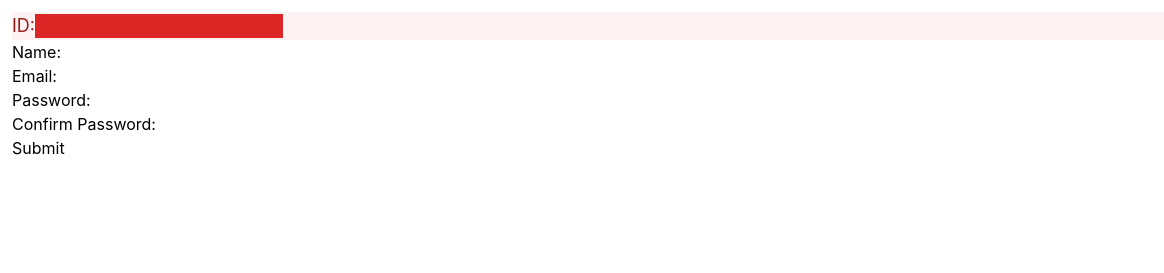
Test: SignupForm › validates password field
Step 1. Type "short" into the password field labelled "Password:" → (215, 100), box [91, 88, 339, 112]
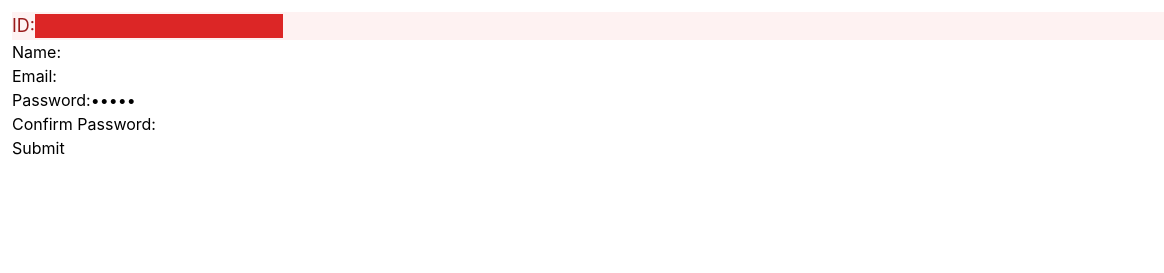
Step 2. Click the button "Submit" → (38, 148), box [12, 136, 65, 160]
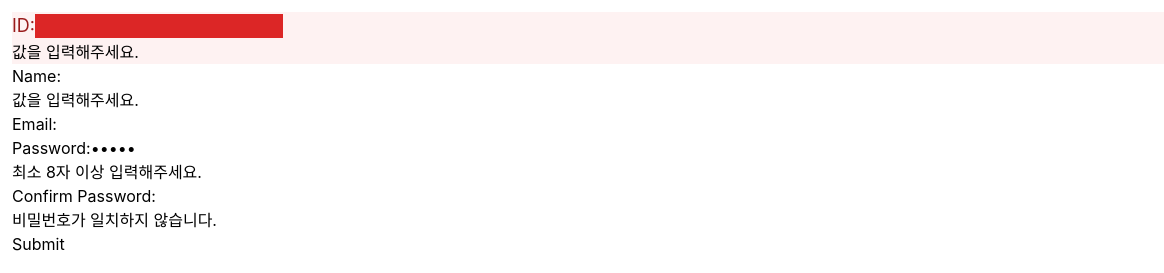
Expected: the text "최소 8자 이상 입력해주세요." is shown, [12, 162, 202, 182]
Step 3. Type "verylongpasswordover20chars" into the password field labelled "Password:" → (215, 148), box [91, 136, 339, 160]
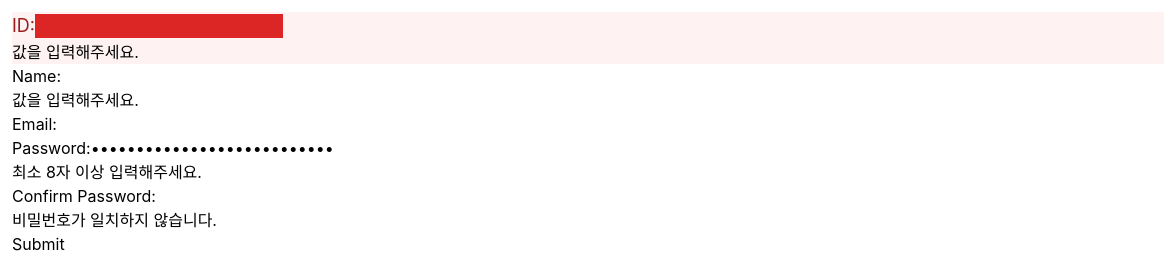
Step 4. Click the button "Submit" → (38, 244), box [12, 232, 65, 256]
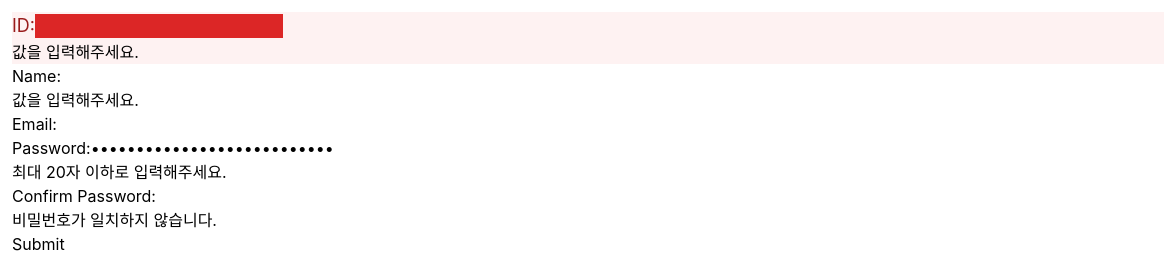
Expected: the text "최대 20자 이하로 입력해주세요." is shown, [12, 162, 227, 182]
Step 5. Type "invalid@password" into the password field labelled "Password:" → (215, 148), box [91, 136, 339, 160]
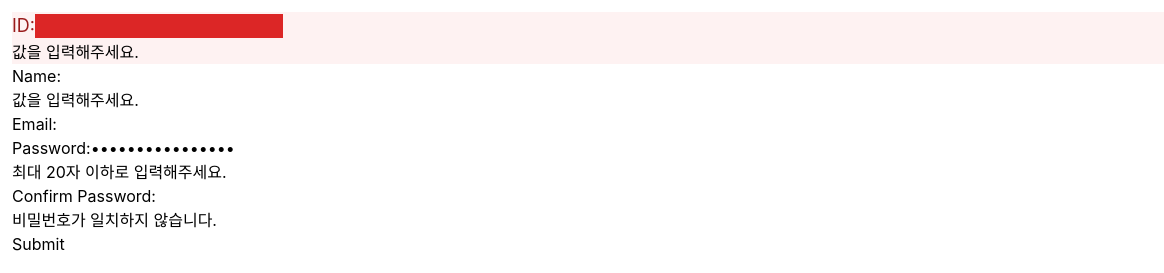
Step 6. Click the button "Submit" → (38, 244), box [12, 232, 65, 256]
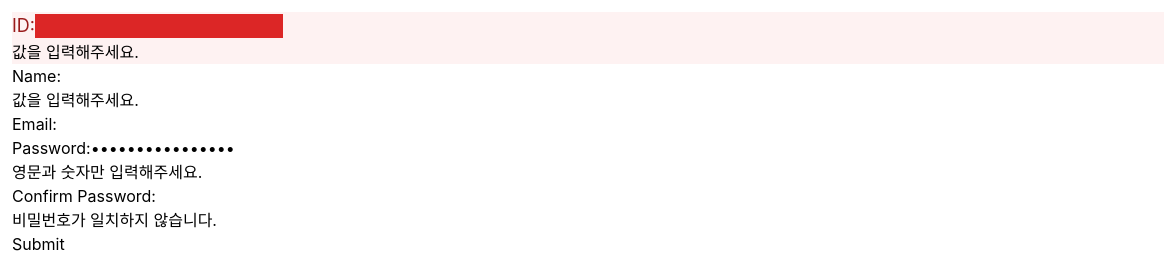
Expected: the text "영문과 숫자만 입력해주세요." is shown, [12, 162, 202, 182]
